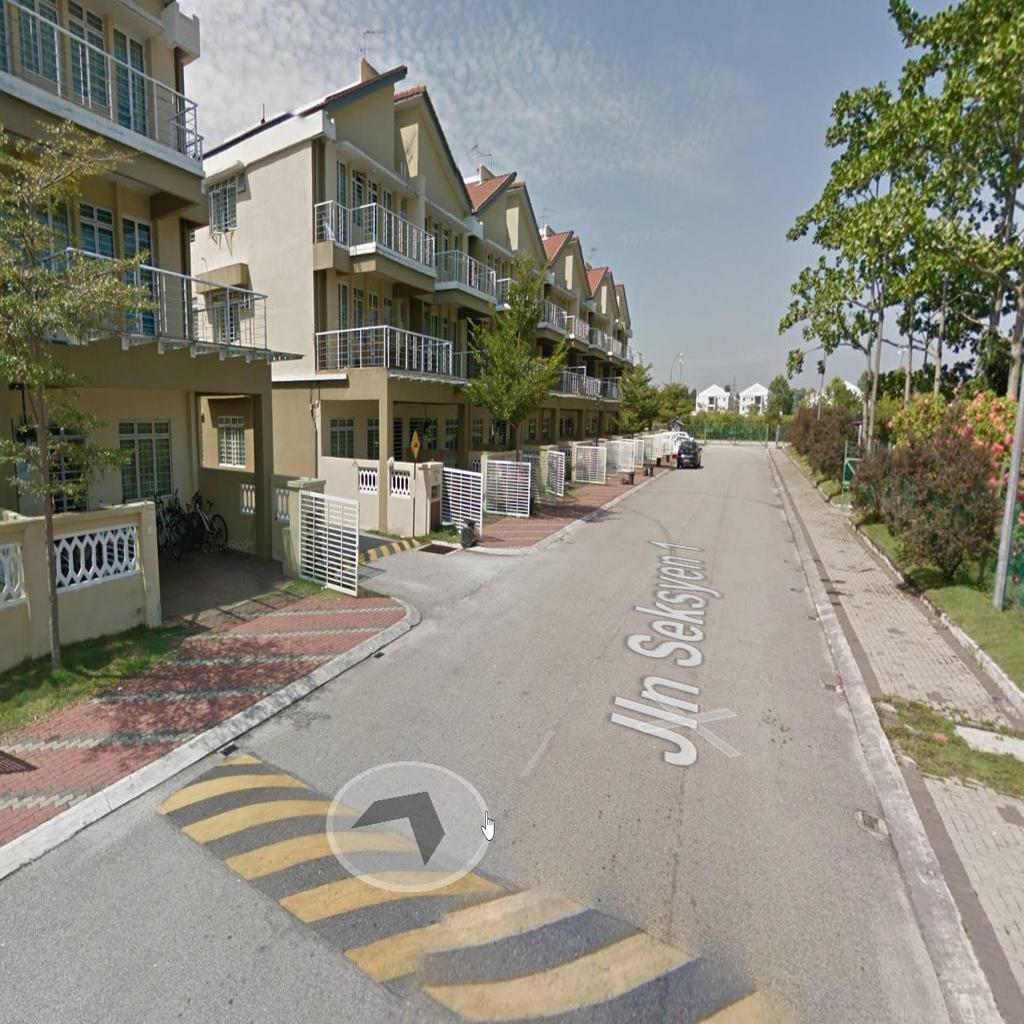Junction: (335, 503, 540, 648)
